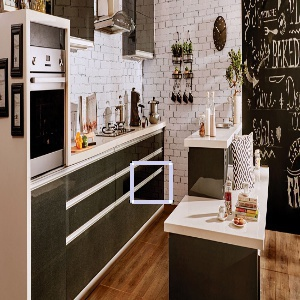square: (129, 160, 174, 204)
